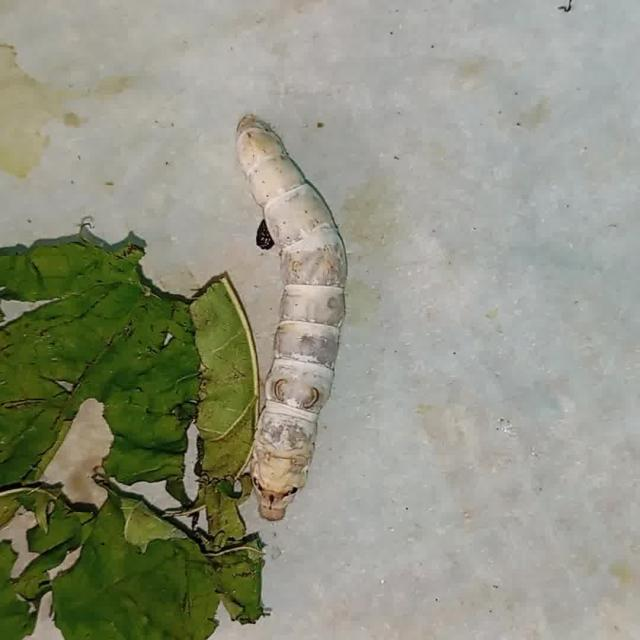Grasserie: (196, 88, 405, 547)
